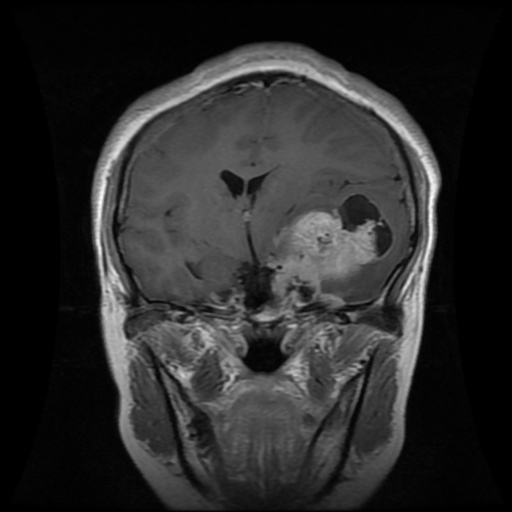meningioma: (271, 192, 393, 295)
